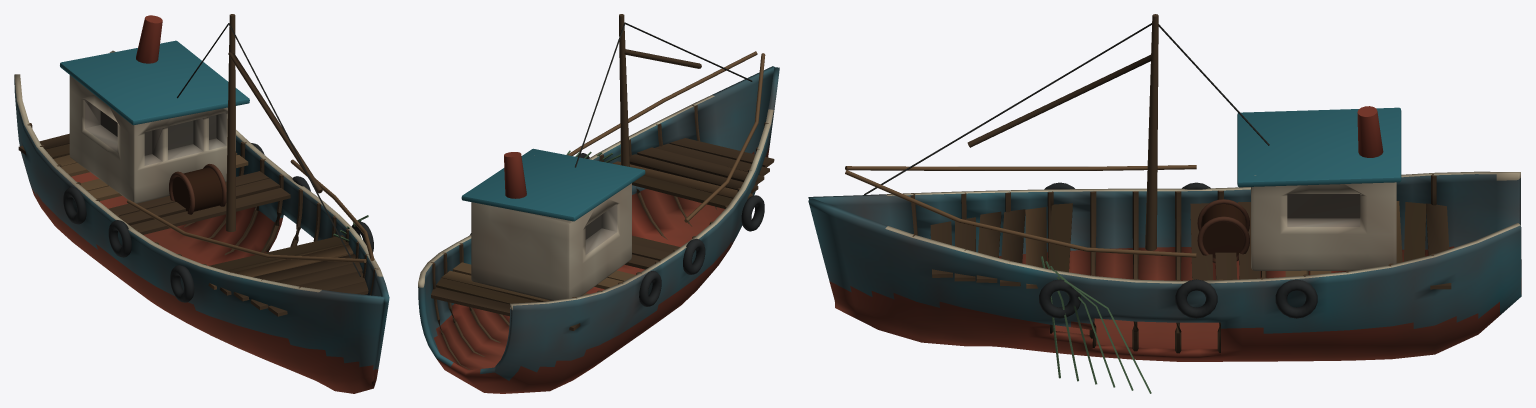
Rendered from marigold.glb.
3 views of the same model, side by side, from view 1: azimuth 30°, elevation 25°; view 2: azimuth 150°, elevation 25°; view 3: azimuth 270°, elevation 25° (orthographic). The views are drawn at different scales.
Visible parts, largest first — view 1: marigold; view 2: marigold; view 3: marigold.
Part boxes in pixels (x1=…): marigold: x1=14, y1=14, x2=389, y2=393; marigold: x1=418, y1=14, x2=779, y2=393; marigold: x1=808, y1=14, x2=1521, y2=393.
Bounding box in the file's own units: 6.57 × 8.07 × 15.68.
